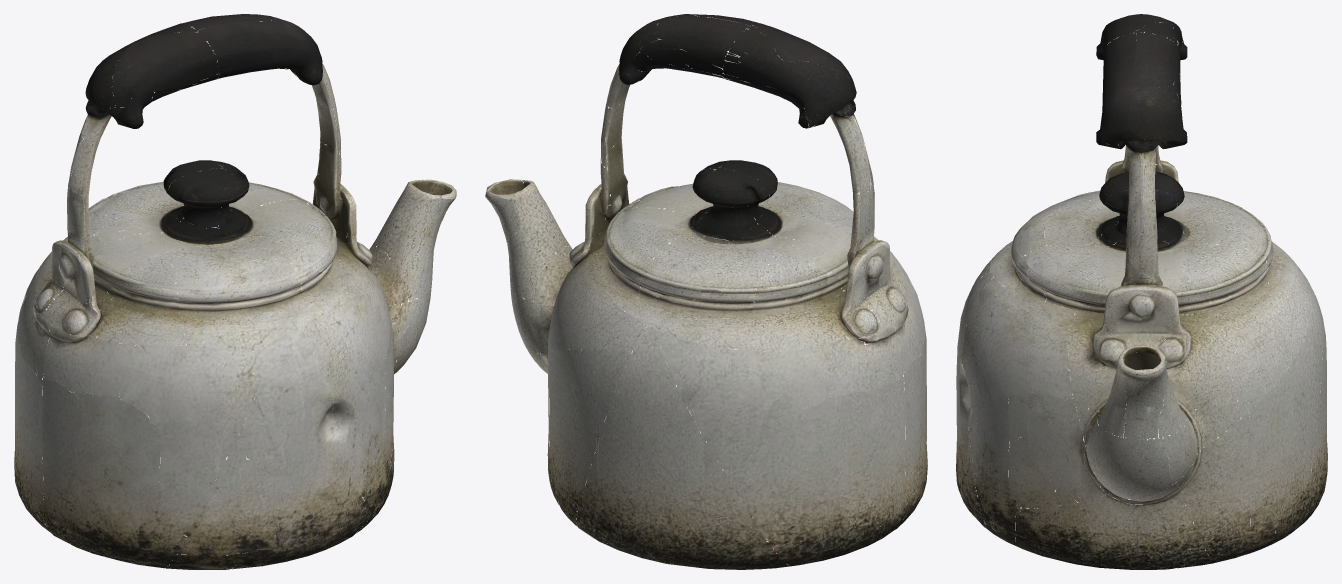
The model's file is kettle_prop.glb.
The picture shows the model from 3 angles, left to right: view 1: azimuth 30°, elevation 25°; view 2: azimuth 150°, elevation 25°; view 3: azimuth 270°, elevation 25°; orthographic projection. The views are drawn at different scales.
Parts seen in each view (by area): view 1: prop_kettle; view 2: prop_kettle; view 3: prop_kettle.
Boxes of the visible parts, x1=… form: prop_kettle: x1=14, y1=14, x2=456, y2=569; prop_kettle: x1=485, y1=14, x2=927, y2=569; prop_kettle: x1=956, y1=14, x2=1327, y2=569.
Bounding box in the file's own units: 0.898 × 0.9791 × 0.7146.
1 material, 1 textured.
